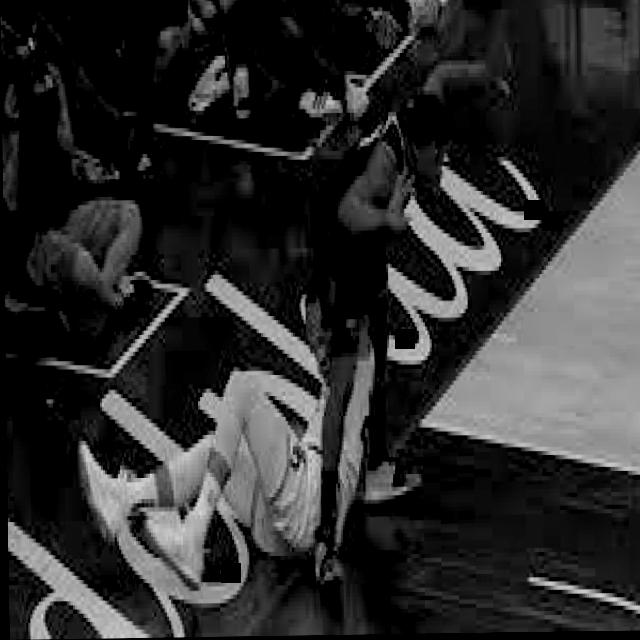Fall-Detected: (56, 244, 363, 589)
